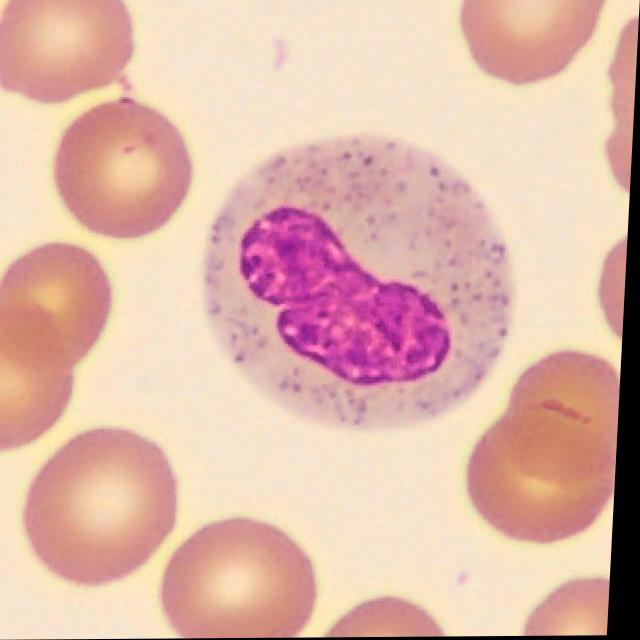Neutrofilo segmentado: (205, 132, 519, 432)
